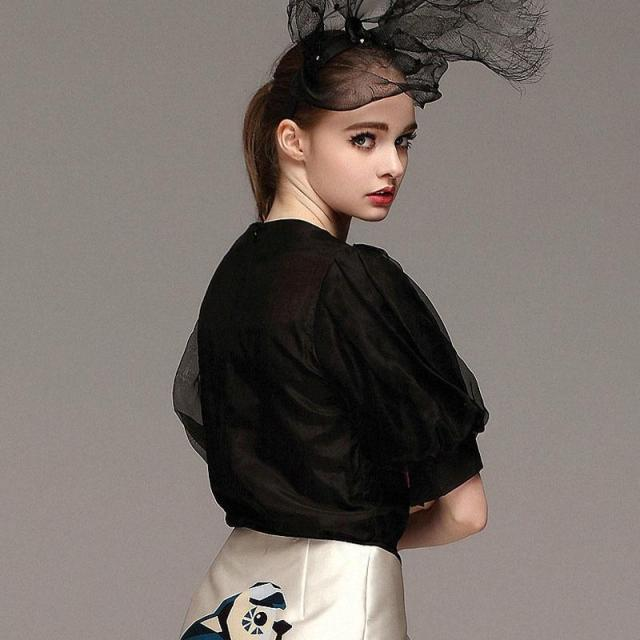short sleeve top: (180, 226, 483, 561)
skirt: (178, 524, 407, 639)
